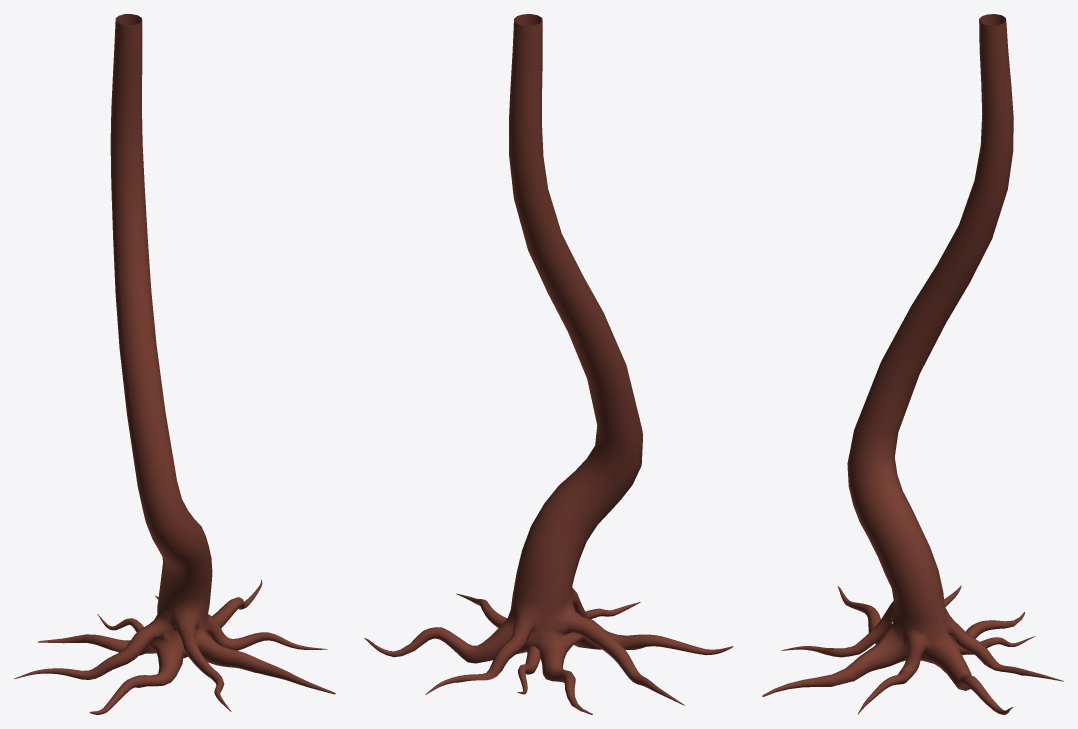
Rendered from M_Tree_0.fbx.
3 views of the same model, side by side, from view 1: azimuth 30°, elevation 25°; view 2: azimuth 150°, elevation 25°; view 3: azimuth 270°, elevation 25° (orthographic). The views are drawn at different scales.
Visible parts, largest first — view 1: M_Tree_0; view 2: M_Tree_0; view 3: M_Tree_0.
Part boxes in pixels (x1,y1,x2,y2): M_Tree_0: [14, 14, 335, 714]; M_Tree_0: [364, 14, 733, 714]; M_Tree_0: [762, 14, 1063, 714].
Size of the model in its own units: 567 by 1235 by 530.
